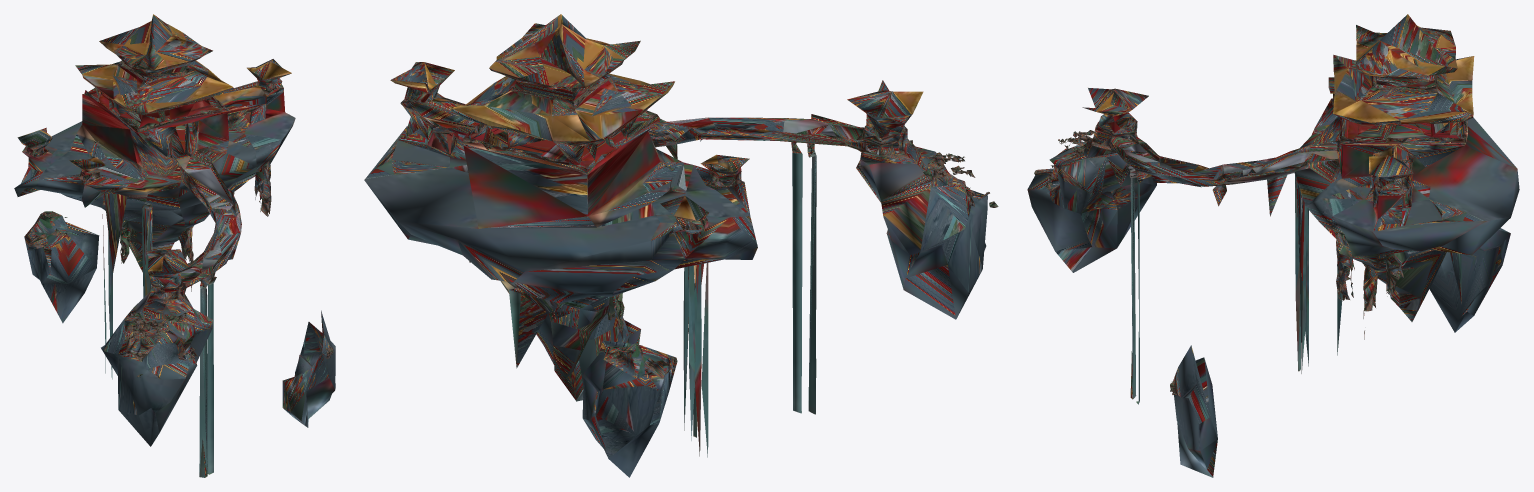
Rendered from sky_palace.far.glb.
3 renders of one model, left to right at view 1: azimuth 30°, elevation 25°; view 2: azimuth 150°, elevation 25°; view 3: azimuth 270°, elevation 25°, orthographic. The views are drawn at different scales.
Size of the model in its own units: 1.55 by 1.77 by 1.87.
Materials: 1 (1 with a texture image).
